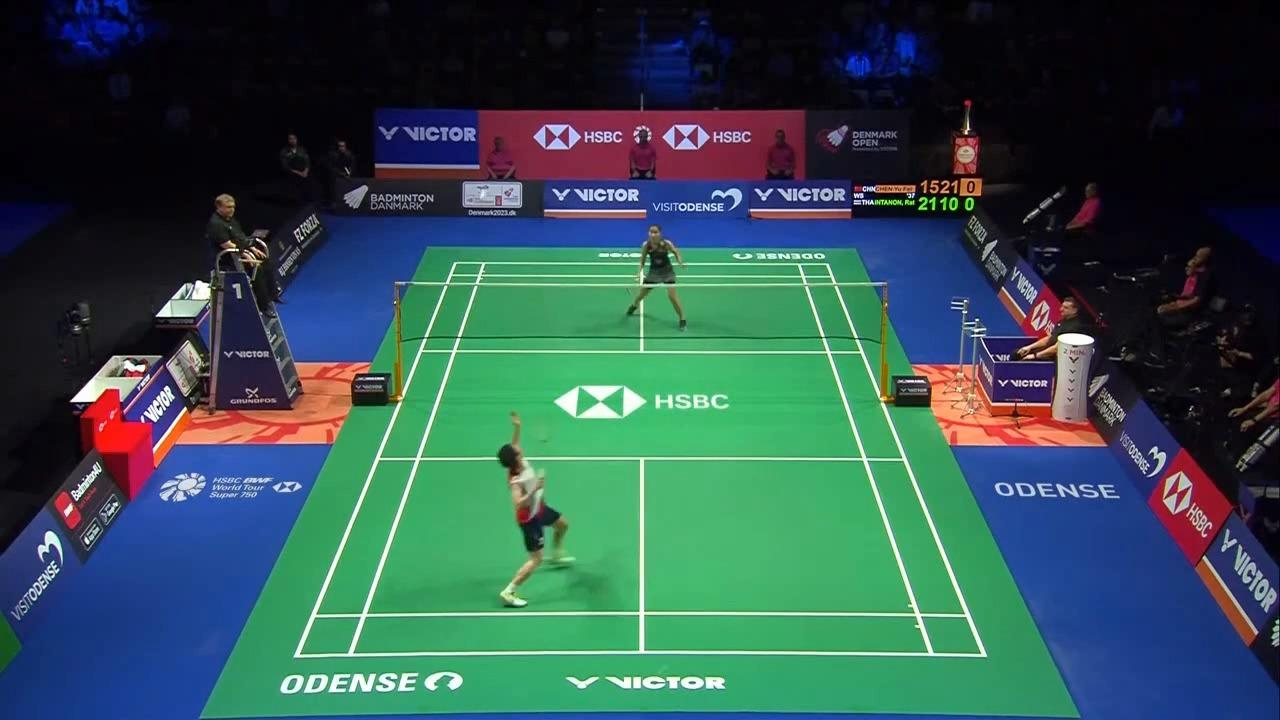shuttle: (478, 188, 490, 200)
